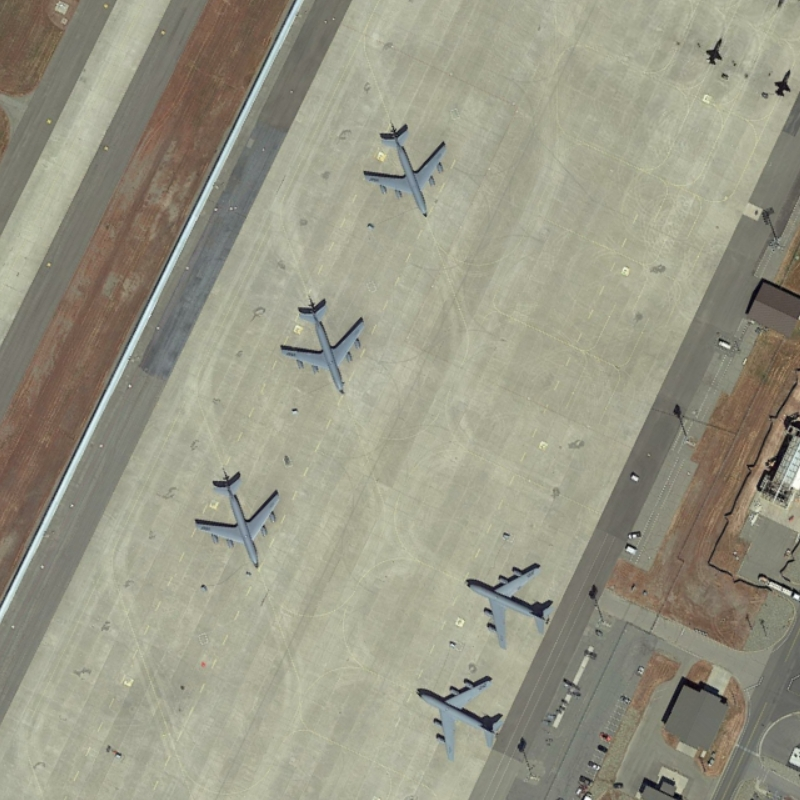A14: (185, 466, 291, 575), (405, 666, 511, 769), (457, 555, 570, 650), (276, 294, 373, 395), (363, 116, 452, 222)
